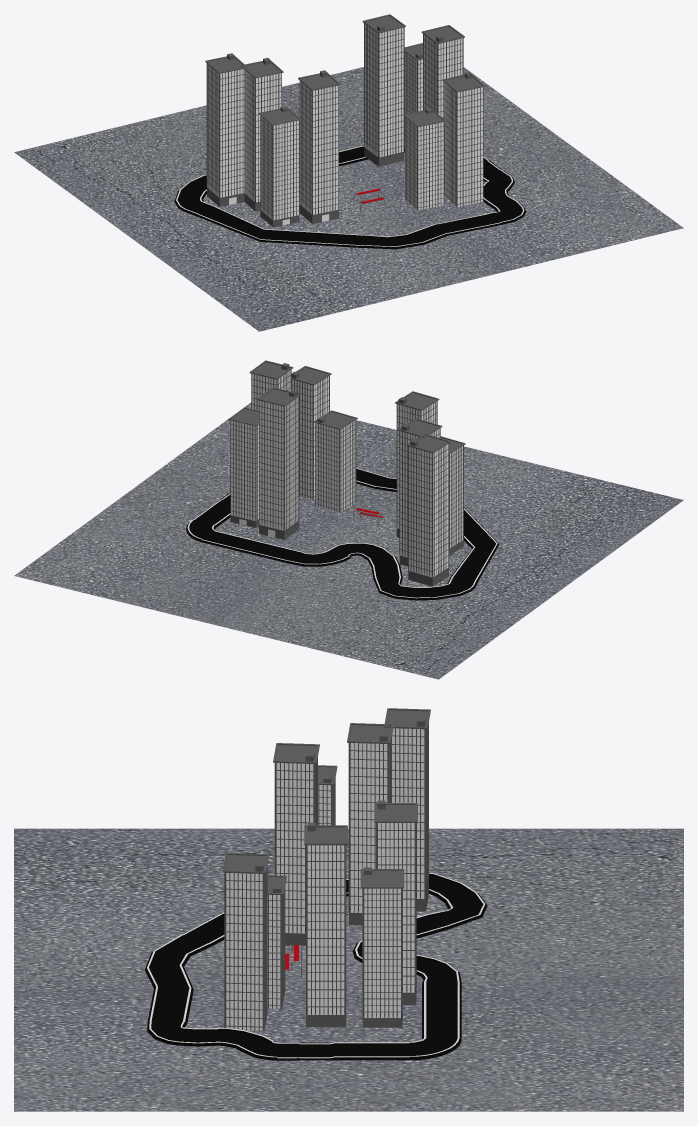
File: Bleachersz.fbx
3 renders of one model, top to bottom at view 1: azimuth 30°, elevation 25°; view 2: azimuth 150°, elevation 25°; view 3: azimuth 270°, elevation 25°, orthographic. The views are drawn at different scales.
Visible parts, largest first — view 1: Plane, Cube, Skyscraper.002, Skyscraper.009, Skyscraper.005, Skyscraper.003, Skyscraper.010, Skyscraper.004, Skyscraper.011, Skyscraper, Skyscraper.001; view 2: Plane, Cube, Skyscraper.005, Skyscraper.002, Skyscraper.004, Skyscraper.001, Skyscraper.003, Skyscraper.011, Skyscraper.010, Skyscraper.009, Skyscraper; view 3: Plane, Cube, Skyscraper, Skyscraper.003, Skyscraper.009, Skyscraper.001, Skyscraper.011, Skyscraper.005, Skyscraper.002, Skyscraper.004, Skyscraper.010.
Part boxes in pixels (box(x1,y1,x2,y2)): Plane: box(14, 67, 683, 331); Cube: box(174, 145, 525, 249); Skyscraper.002: box(362, 14, 405, 166); Skyscraper.009: box(298, 70, 340, 223); Skyscraper.005: box(205, 53, 247, 206); Skyscraper.003: box(442, 72, 485, 207); Skyscraper.010: box(258, 106, 301, 227); Skyscraper.004: box(403, 108, 445, 210); Skyscraper.011: box(241, 58, 283, 211); Skyscraper: box(421, 25, 464, 118); Skyscraper.001: box(404, 43, 422, 152); Plane: box(14, 402, 683, 679); Cube: box(186, 468, 499, 600); Skyscraper.005: box(406, 433, 450, 586); Skyscraper.002: box(257, 387, 300, 539); Skyscraper.004: box(313, 410, 357, 512); Skyscraper.001: box(228, 407, 258, 527); Skyscraper.003: box(291, 366, 331, 499); Skyscraper.011: box(397, 418, 442, 566); Skyscraper.010: box(440, 436, 465, 555); Skyscraper.009: box(395, 391, 439, 537); Skyscraper: box(249, 360, 293, 410); Plane: box(14, 828, 683, 1111); Cube: box(145, 873, 487, 1060); Skyscraper: box(304, 822, 347, 1027); Skyscraper.003: box(222, 853, 269, 1030); Skyscraper.009: box(273, 743, 319, 945); Skyscraper.001: box(360, 867, 404, 1027); Skyscraper.011: box(347, 723, 393, 925); Skyscraper.005: box(384, 708, 430, 911); Skyscraper.002: box(374, 800, 417, 1004); Skyscraper.004: box(267, 875, 286, 1008); Skyscraper.010: box(318, 765, 337, 825).
Bounding box in the file's own units: 4292 × 1574 × 4292.
23 materials, 1 textured.
